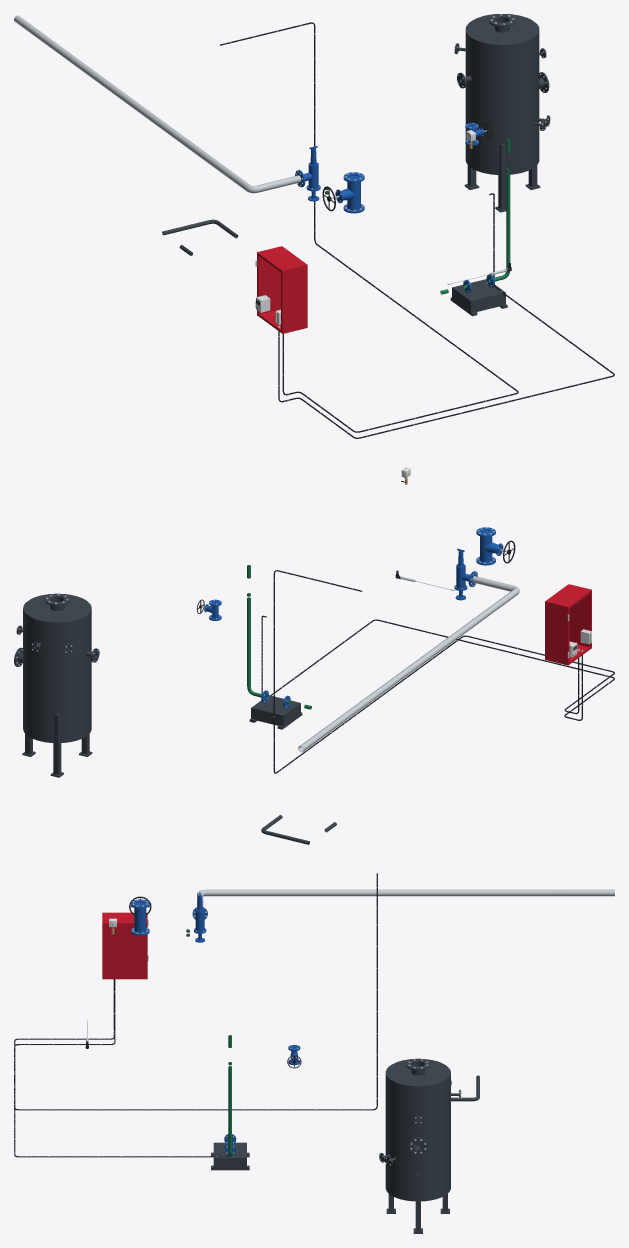
3 views of the same model, one above another, from view 1: azimuth 30°, elevation 25°; view 2: azimuth 150°, elevation 25°; view 3: azimuth 270°, elevation 25° (orthographic). The views are drawn at different scales.
Visible parts, largest first — view 1: separator_bdv60_5 / dark, control_cabinet / control_cabinet_0.npz, safety_vent_1 / steel, mod_eco_drive_cable / black, pump_branch_1 / dark, wiring_pump_1 / black, steam_manual / blue, pump_branch_1 / green, safety_1 / blue; view 2: separator_bdv60_5 / dark, control_cabinet / control_cabinet_0.npz, safety_vent_1 / steel, mod_eco_drive_cable / black, pump_branch_1 / dark, wiring_pump_1 / black, steam_manual / blue, pump_branch_1 / green; view 3: separator_bdv60_5 / dark, safety_vent_1 / steel, control_cabinet / control_cabinet_0.npz, mod_eco_drive_cable / black, pump_branch_1 / dark, wiring_pump_1 / black, steam_manual / blue.
Boxes of the visible parts, bbox=[...] form: separator_bdv60_5 / dark: bbox=[454, 14, 550, 212]; control_cabinet / control_cabinet_0.npz: bbox=[255, 246, 307, 333]; safety_vent_1 / steel: bbox=[14, 15, 301, 193]; mod_eco_drive_cable / black: bbox=[220, 22, 518, 432]; pump_branch_1 / dark: bbox=[450, 279, 507, 316]; wiring_pump_1 / black: bbox=[278, 193, 614, 438]; steam_manual / blue: bbox=[335, 172, 364, 213]; pump_branch_1 / green: bbox=[440, 138, 510, 294]; safety_1 / blue: bbox=[295, 146, 320, 191]; separator_bdv60_5 / dark: bbox=[14, 593, 99, 777]; control_cabinet / control_cabinet_0.npz: bbox=[545, 584, 591, 665]; safety_vent_1 / steel: bbox=[298, 576, 519, 752]; mod_eco_drive_cable / black: bbox=[273, 570, 614, 773]; pump_branch_1 / dark: bbox=[249, 695, 302, 729]; wiring_pump_1 / black: bbox=[261, 615, 614, 720]; steam_manual / blue: bbox=[476, 527, 503, 565]; pump_branch_1 / green: bbox=[247, 565, 311, 709]; separator_bdv60_5 / dark: bbox=[379, 1058, 460, 1233]; safety_vent_1 / steel: bbox=[197, 889, 614, 906]; control_cabinet / control_cabinet_0.npz: bbox=[102, 912, 148, 979]; mod_eco_drive_cable / black: bbox=[14, 873, 377, 1110]; pump_branch_1 / dark: bbox=[211, 1142, 249, 1170]; wiring_pump_1 / black: bbox=[14, 979, 228, 1157]; steam_manual / blue: bbox=[131, 899, 149, 935].
Bounding box in the file's own units: 5.31 × 2.76 × 7.03.
